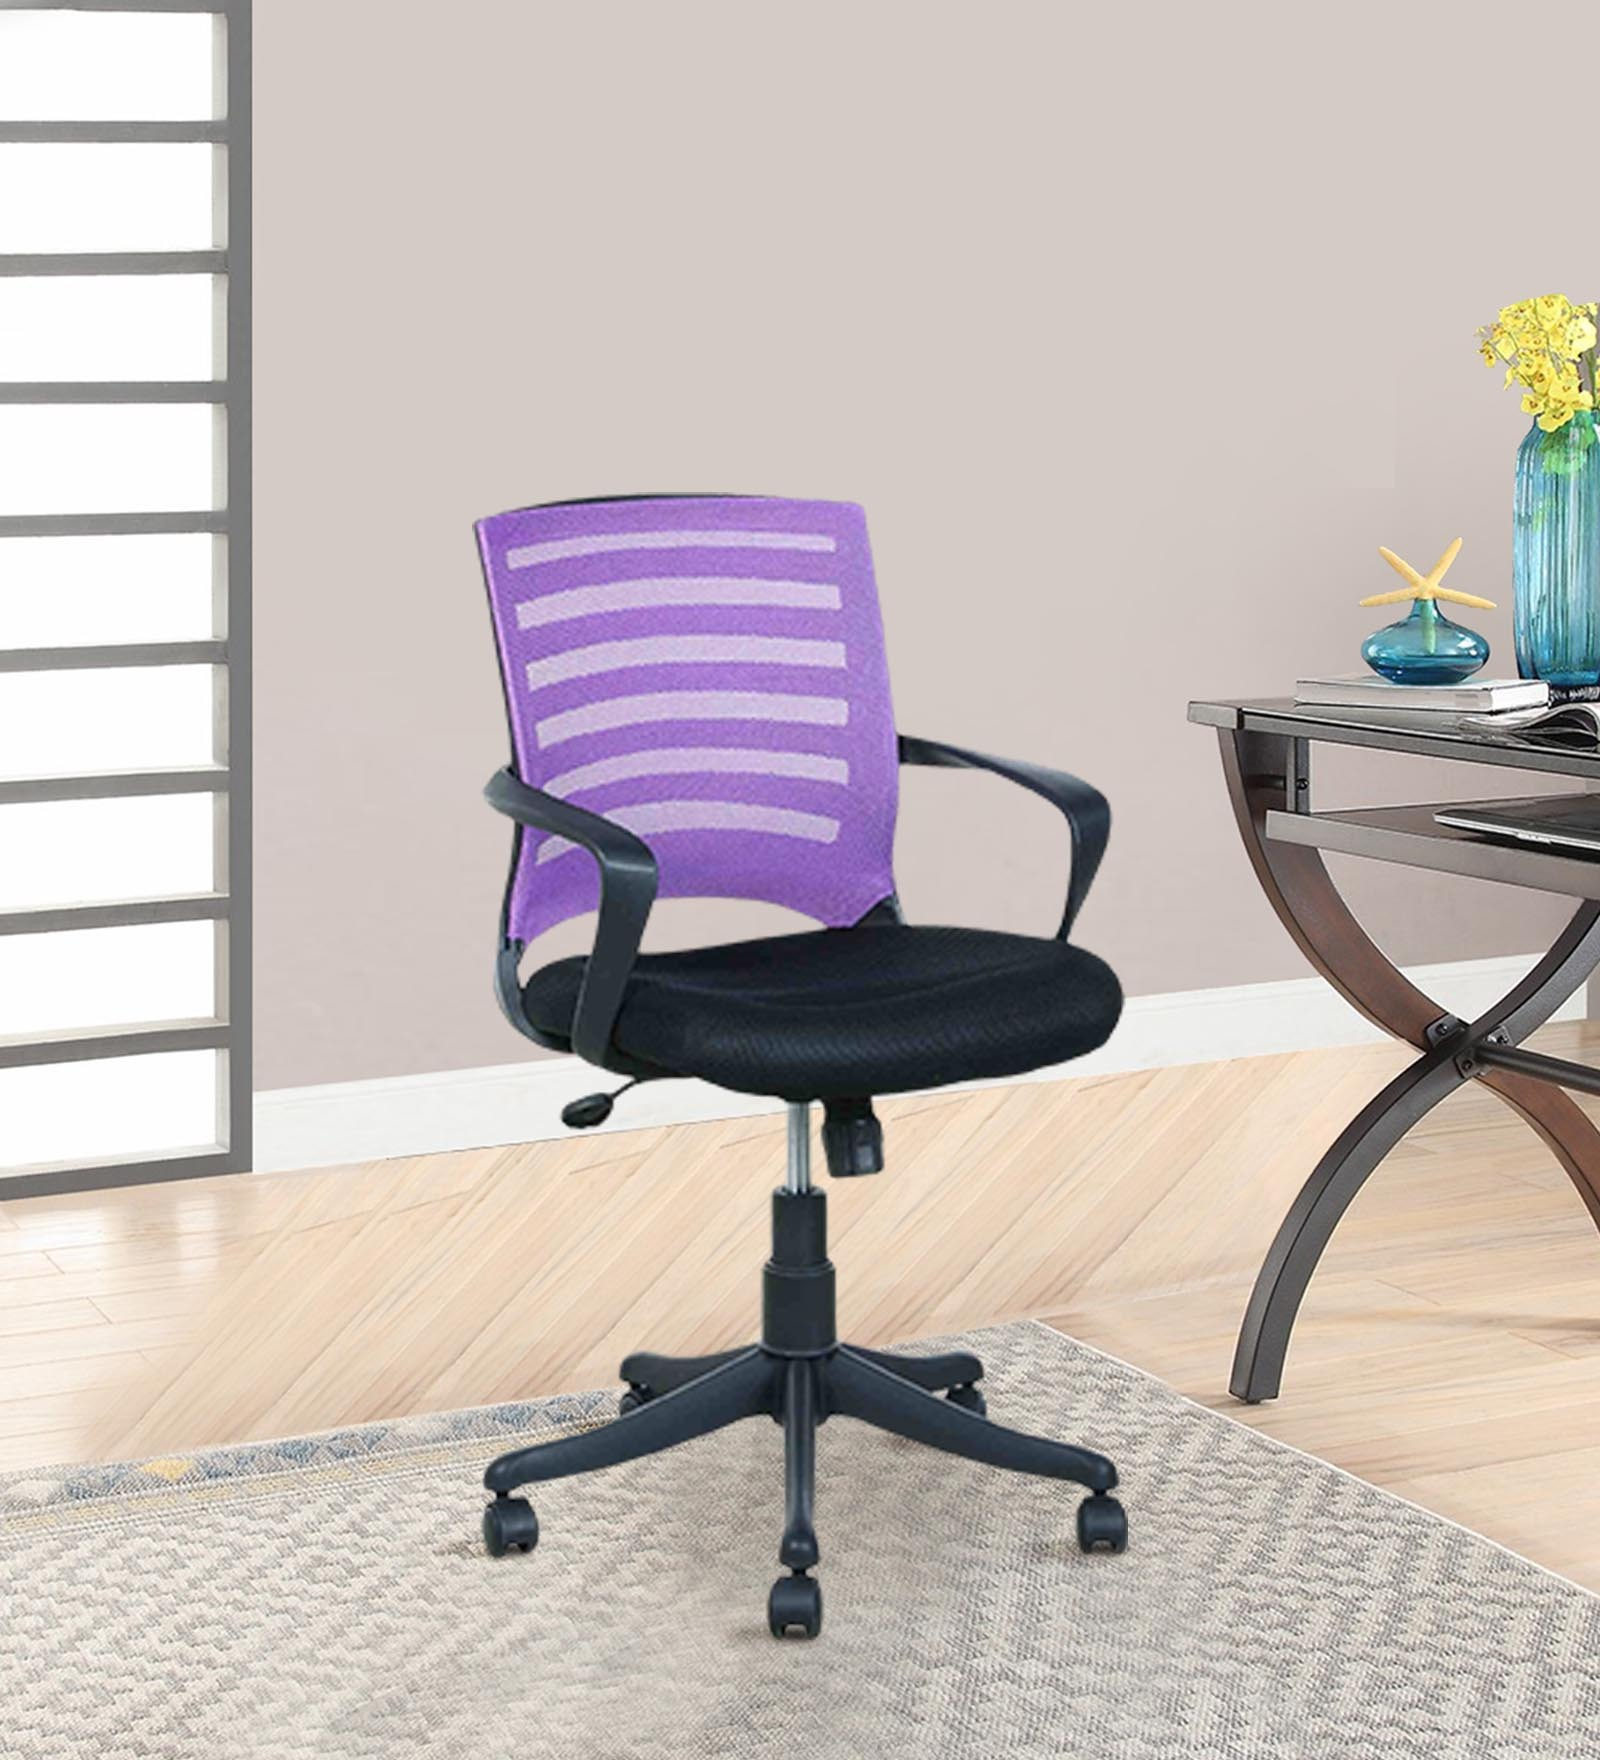Trendy Ergonomic Chair in Purple Colour by Parin: (372, 428, 1162, 1709)
